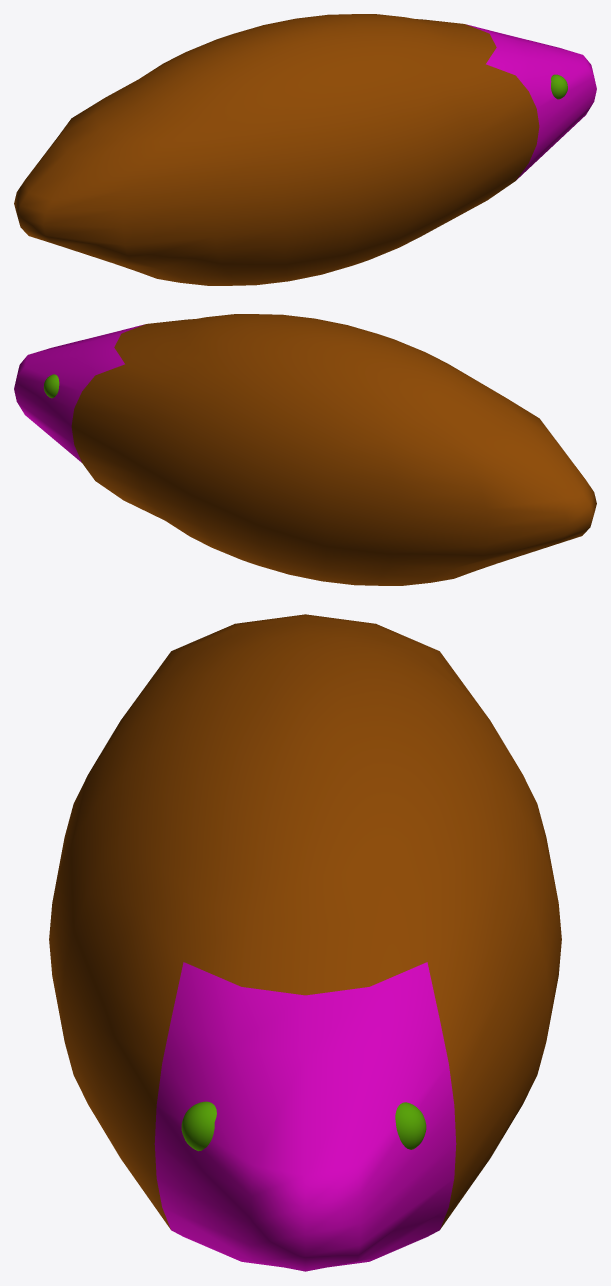
File: morumo-ra.fbx
The picture shows the model from 3 angles, top to bottom: view 1: azimuth 30°, elevation 25°; view 2: azimuth 150°, elevation 25°; view 3: azimuth 270°, elevation 25°; orthographic projection. The views are drawn at different scales.
Parts seen in each view (by area): view 1: pSphere1; view 2: pSphere1; view 3: pSphere1, pSphere3, pSphere4.
Part boxes in pixels (x1,y1,x2,y2): pSphere1: [14, 14, 596, 285]; pSphere1: [14, 314, 596, 585]; pSphere1: [49, 614, 561, 1271]; pSphere3: [181, 1101, 216, 1151]; pSphere4: [395, 1102, 426, 1149].
Bounding box in the file's own units: 5.19 × 2 × 2.
